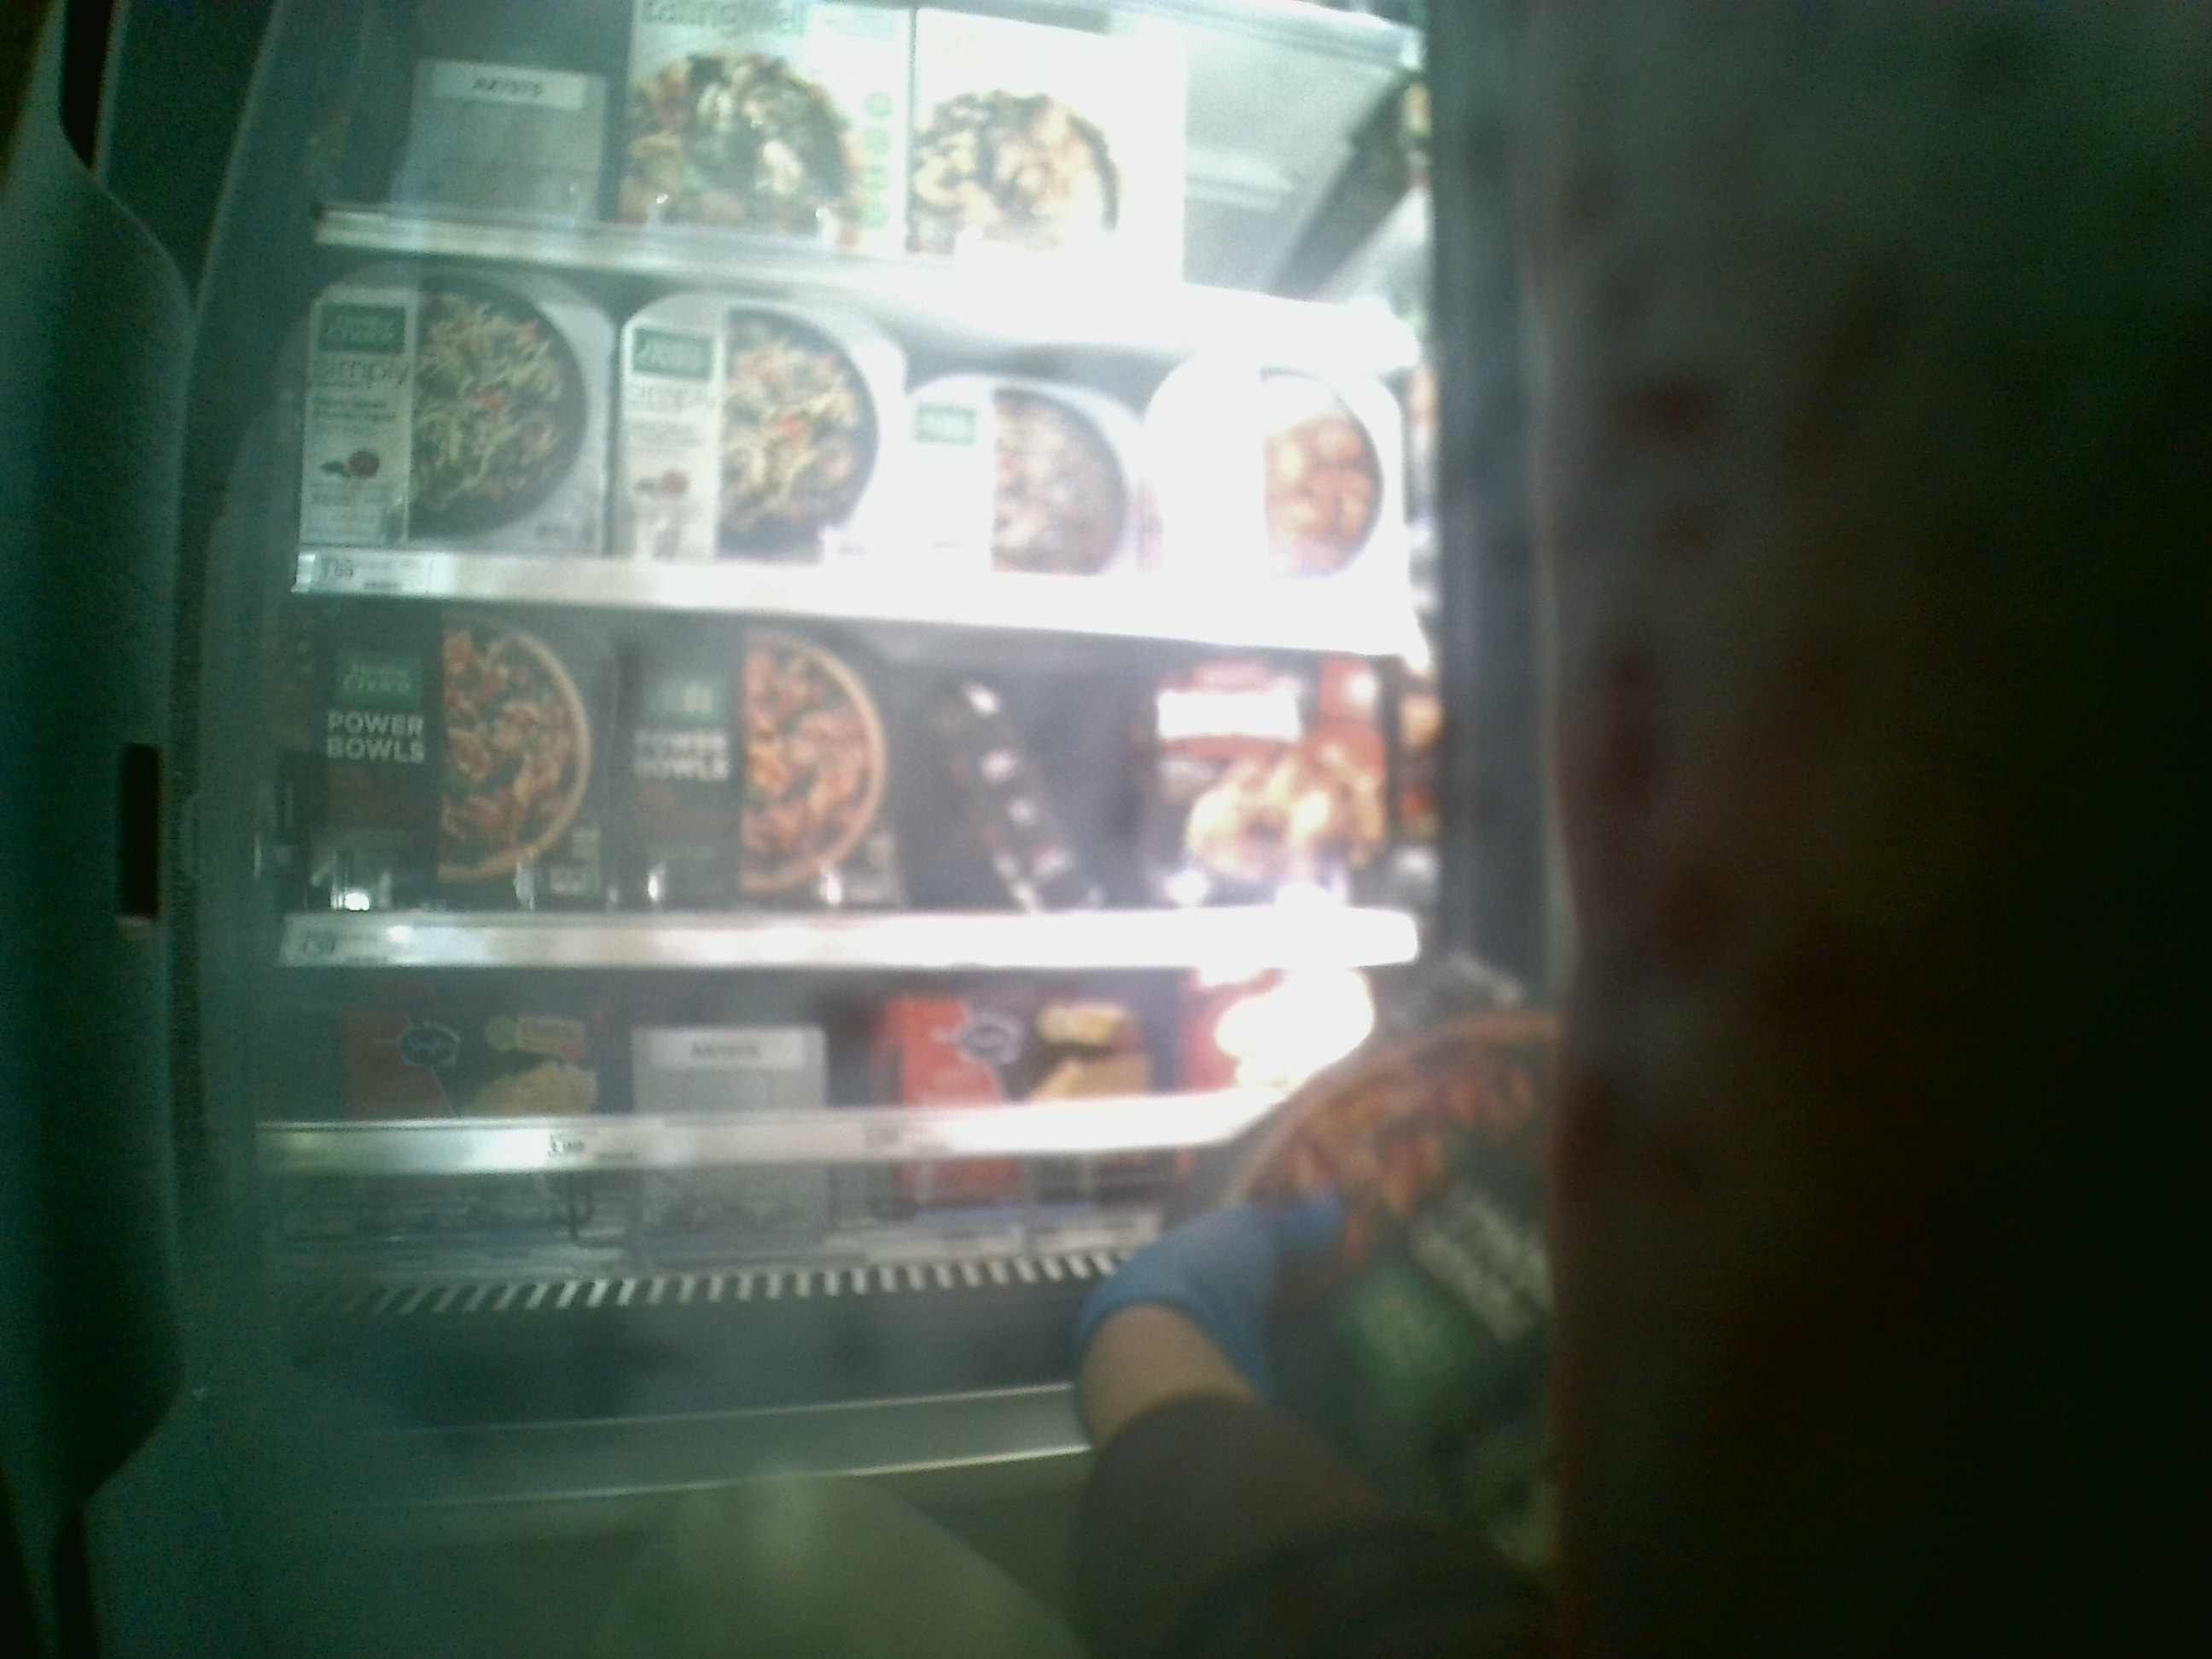shelf: (303, 230, 1418, 647), (296, 584, 1425, 967)
